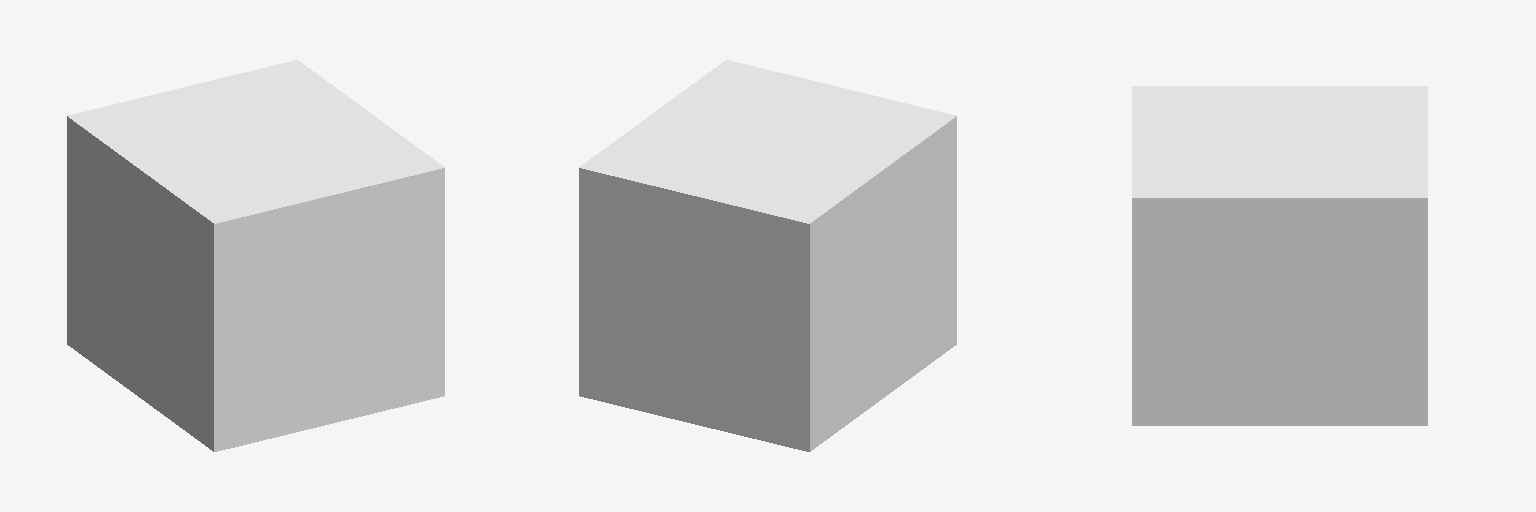
Rendered from evilnoob-6.obj.
3 views of the same model, side by side, from view 1: azimuth 30°, elevation 25°; view 2: azimuth 150°, elevation 25°; view 3: azimuth 270°, elevation 25° (orthographic).
Parts seen in each view (by area): view 1: object 1; view 2: object 1; view 3: object 1.
Boxes of the visible parts, x1=… form: object 1: x1=67, y1=60, x2=444, y2=451; object 1: x1=579, y1=60, x2=956, y2=451; object 1: x1=1132, y1=86, x2=1427, y2=425.
Size of the model in its own units: 11 by 10.4 by 12.2.